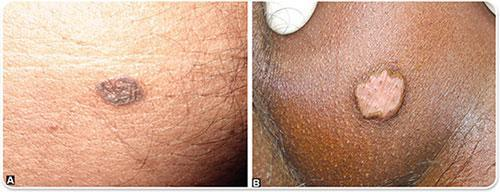annular lichen planus: (335, 55, 433, 133), (86, 61, 158, 119)
